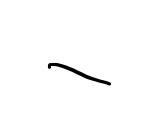minus: (48, 62, 111, 86)
